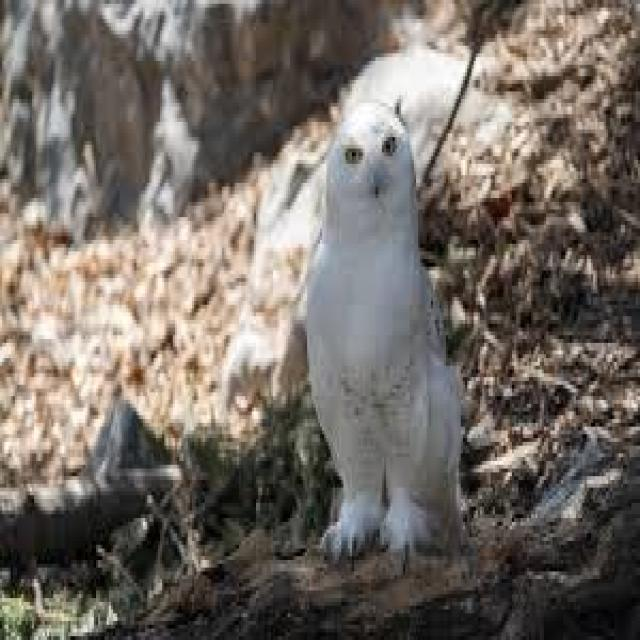snowy owl: (225, 59, 529, 582)
